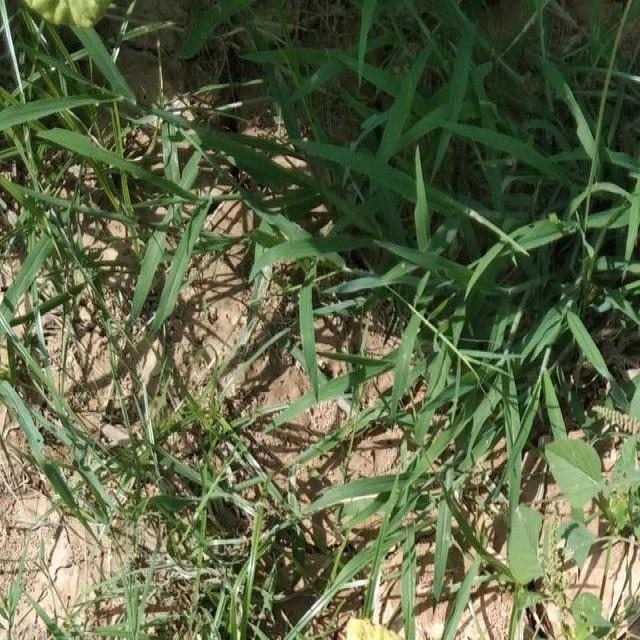weed: (304, 8, 640, 306), (398, 332, 640, 640), (11, 34, 298, 278), (27, 367, 280, 640)
